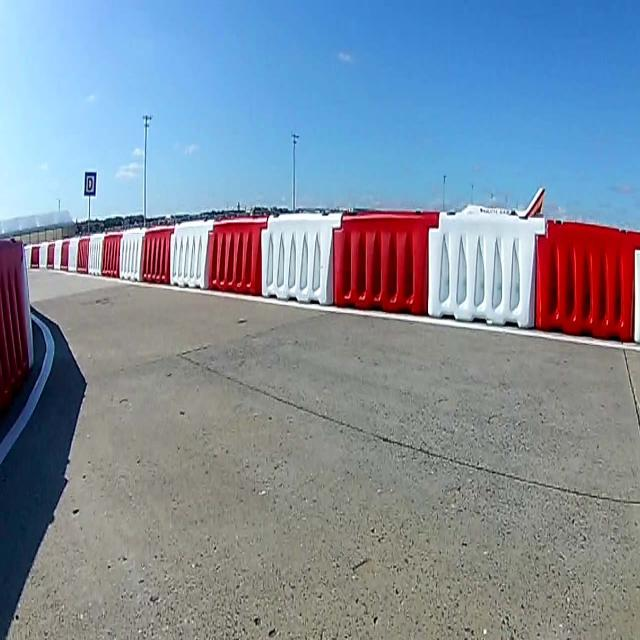durak: (84, 172, 96, 196)
